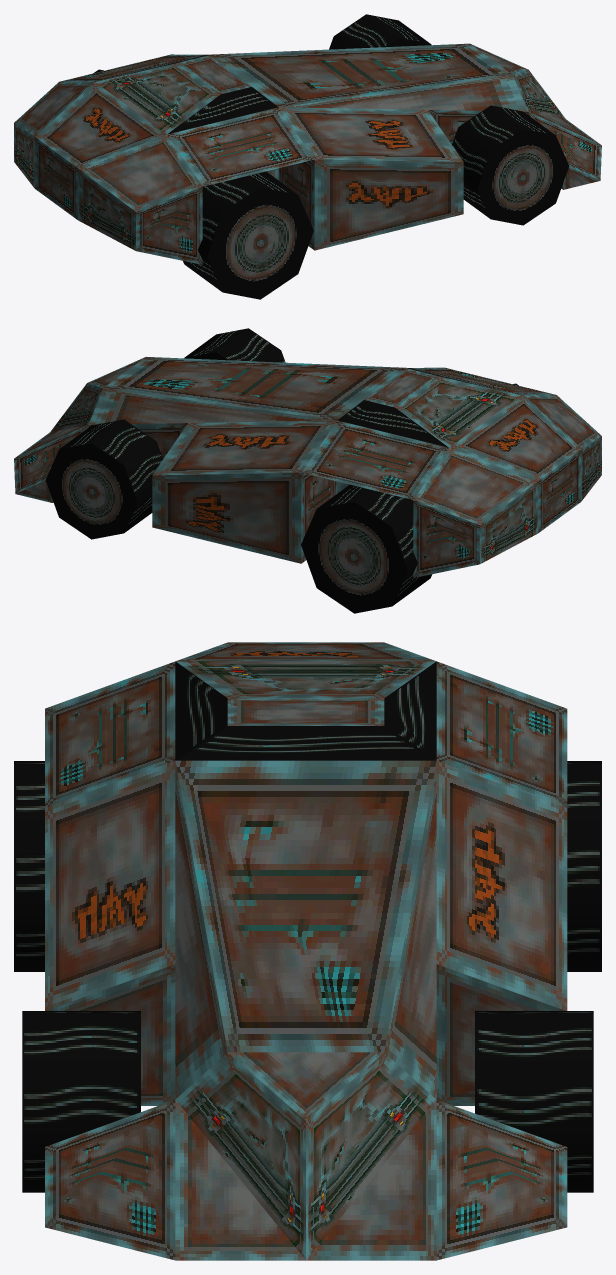
The picture shows the model from 3 angles, top to bottom: view 1: azimuth 30°, elevation 25°; view 2: azimuth 150°, elevation 25°; view 3: azimuth 270°, elevation 25°; orthographic projection. The views are drawn at different scales.
Visible parts, largest first — view 1: ChassisSR0, WheelRR, WheelFR, WheelFL; view 2: ChassisSR0, WheelRL, WheelFL, WheelFR; view 3: ChassisSR0, WheelFL, WheelFR, WheelRL, WheelRR.
Boxes of the visible parts, <box> form: ChassisSR0: <box>14,43,601,264</box>; WheelRR: <box>183,171,313,299</box>; WheelFR: <box>452,105,569,225</box>; WheelFL: <box>329,14,431,49</box>; ChassisSR0: <box>14,356,601,577</box>; WheelRL: <box>301,484,432,613</box>; WheelFL: <box>45,419,162,539</box>; WheelFR: <box>184,328,285,362</box>; ChassisSR0: <box>45,642,567,1260</box>; WheelFL: <box>475,1011,593,1192</box>; WheelFR: <box>22,1011,140,1192</box>; WheelRL: <box>567,761,601,971</box>; WheelRR: <box>14,761,44,971</box>.
Size of the model in its own units: 6.56 by 1.94 by 3.6.
Materials: 2 (1 with a texture image).
